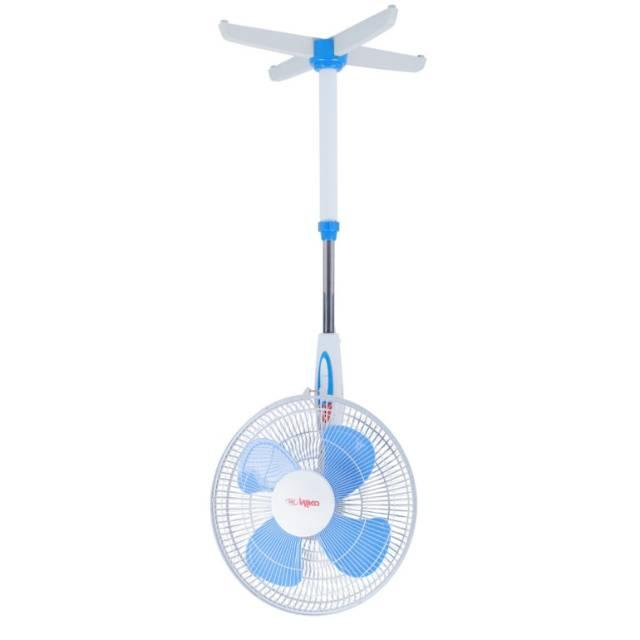fan: (208, 12, 432, 616)
